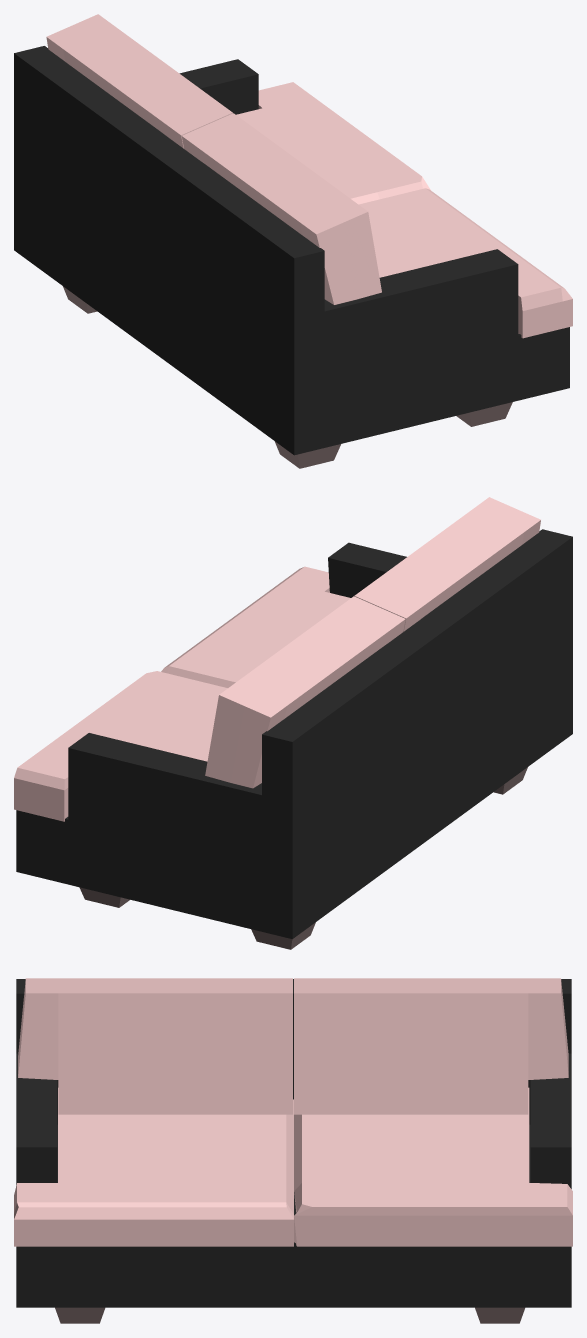
The model's file is Couch.fbx.
3 renders of one model, top to bottom at view 1: azimuth 30°, elevation 25°; view 2: azimuth 150°, elevation 25°; view 3: azimuth 270°, elevation 25°, orthographic.
Visible parts, largest first — view 1: Couch; view 2: Couch; view 3: Couch.
Boxes of the visible parts, <box> form: Couch: <box>14,14,572,468</box>; Couch: <box>14,497,572,949</box>; Couch: <box>14,978,572,1323</box>.
Size of the model in its own units: 101 by 89.26 by 177.
